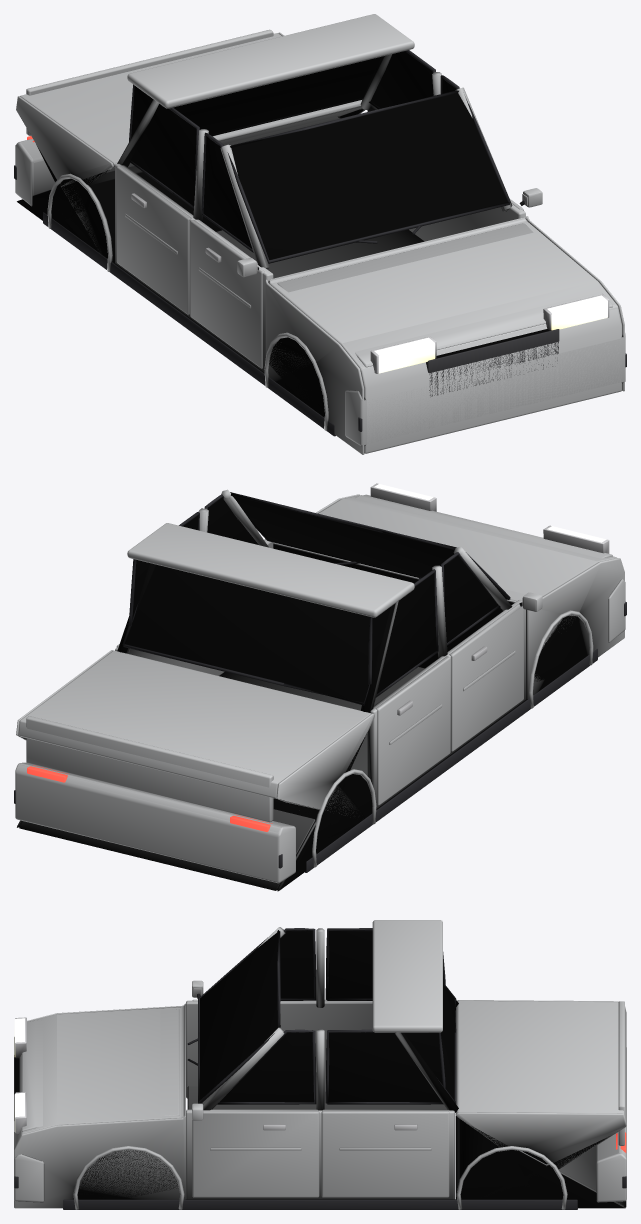
File: car_hatch.glb
3 renders of one model, top to bottom at view 1: azimuth 30°, elevation 25°; view 2: azimuth 150°, elevation 25°; view 3: azimuth 270°, elevation 25°, orthographic. The views are drawn at different scales.
Visible parts, largest first — view 1: nose, front_windshield, roof, front_bumper, tail, front_left_wing, rear_left_door, front_left_door, rear_windshield, rear_left_quarter, bonnet, rear_left_window (+18 smaller); view 2: tail, rear_windshield, rear_bumper, roof, nose, boot, rear_left_door, front_left_wing, front_left_door, rear_left_quarter, front_windshield, rear_left_window (+20 smaller); view 3: tail, nose, front_right_wing, rear_right_door, front_right_door, rear_right_quarter, roof, front_windshield, rear_right_window, sill_r, front_right_window, bonnet (+20 smaller).
Boxes of the visible parts, box(x1,y1,x2,y2) form: nose: box(268, 217, 622, 453); front_windshield: box(231, 93, 507, 260); roof: box(127, 14, 414, 108); front_bumper: box(345, 333, 625, 446); tail: box(20, 33, 363, 262); front_left_wing: box(265, 279, 364, 454); rear_left_door: box(116, 166, 191, 315); front_left_door: box(190, 220, 264, 368); rear_windshield: box(173, 57, 380, 134); rear_left_quarter: box(16, 96, 113, 258); bonnet: box(277, 223, 612, 367); rear_left_window: box(131, 86, 196, 205); tail: box(18, 650, 371, 890); rear_windshield: box(125, 564, 369, 702); rear_bumper: box(15, 762, 295, 883); roof: box(127, 523, 414, 617); nose: box(273, 495, 617, 699); boot: box(26, 716, 273, 822); rear_left_door: box(375, 656, 450, 805); front_left_wing: box(526, 558, 624, 698); front_left_door: box(449, 603, 523, 751); rear_left_quarter: box(276, 713, 374, 891); front_windshield: box(233, 496, 505, 597); rear_left_window: box(372, 573, 436, 694); tail: box(455, 1001, 626, 1206); nose: box(14, 1005, 185, 1149); front_right_wing: box(14, 1115, 185, 1208); rear_right_door: box(321, 1111, 449, 1197); front_right_door: box(192, 1111, 319, 1197); rear_right_quarter: box(455, 1112, 626, 1208); roof: box(372, 920, 442, 1032); front_windshield: box(200, 932, 277, 1099); rear_right_window: box(328, 1032, 442, 1102); sill_r: box(63, 1199, 577, 1209); front_right_window: box(220, 1032, 314, 1102); bonnet: box(21, 1009, 179, 1131).
Size of the model in its own units: 2 by 1.3 by 4.
